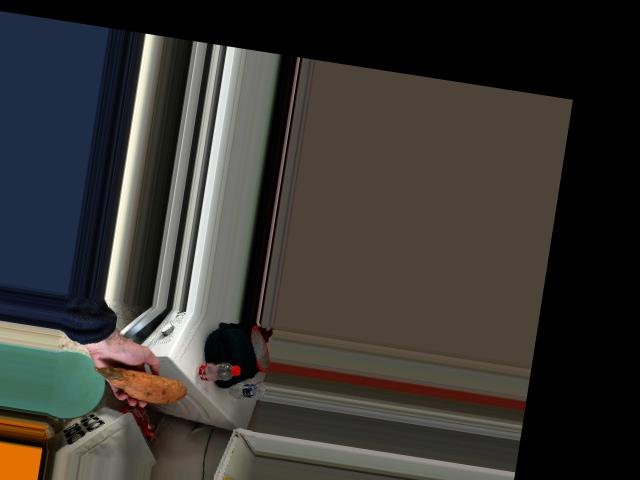sweet_potato: (96, 364, 179, 407)
